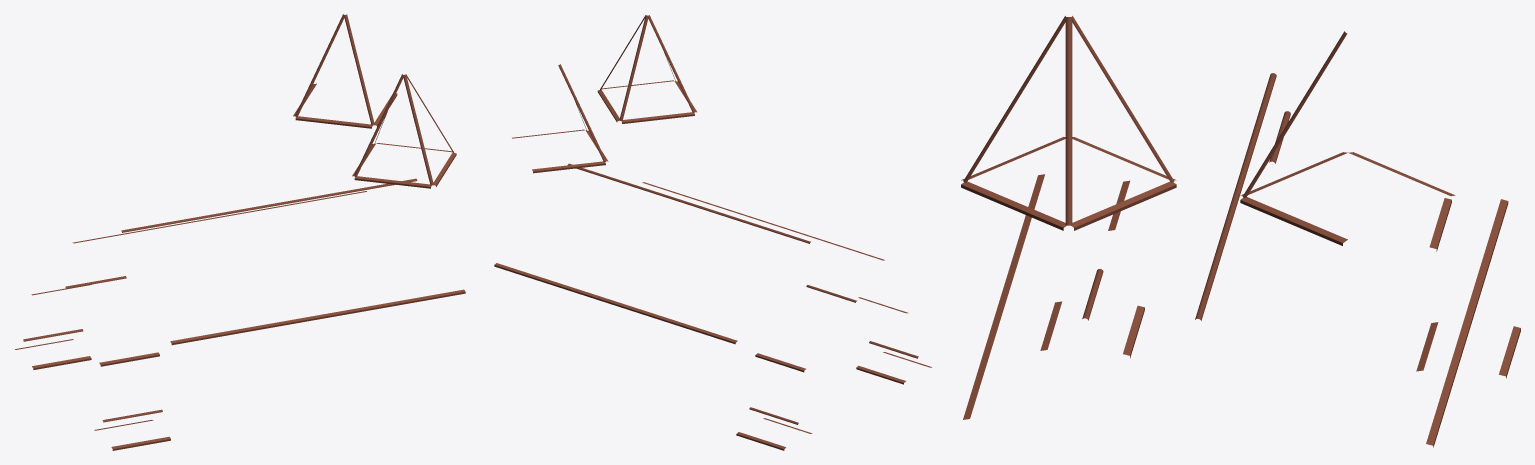
3 views of the same model, side by side, from view 1: azimuth 30°, elevation 25°; view 2: azimuth 150°, elevation 25°; view 3: azimuth 270°, elevation 25° (orthographic). The views are drawn at different scales.
Visible parts, largest first — view 1: detail; view 2: detail; view 3: detail.
Boxes of the visible parts, <box> form: detail: <box>15,14,465,450</box>; detail: <box>494,15,931,450</box>; detail: <box>961,16,1520,447</box>.
Size of the model in its own units: 33.7 by 26.92 by 24.55.
